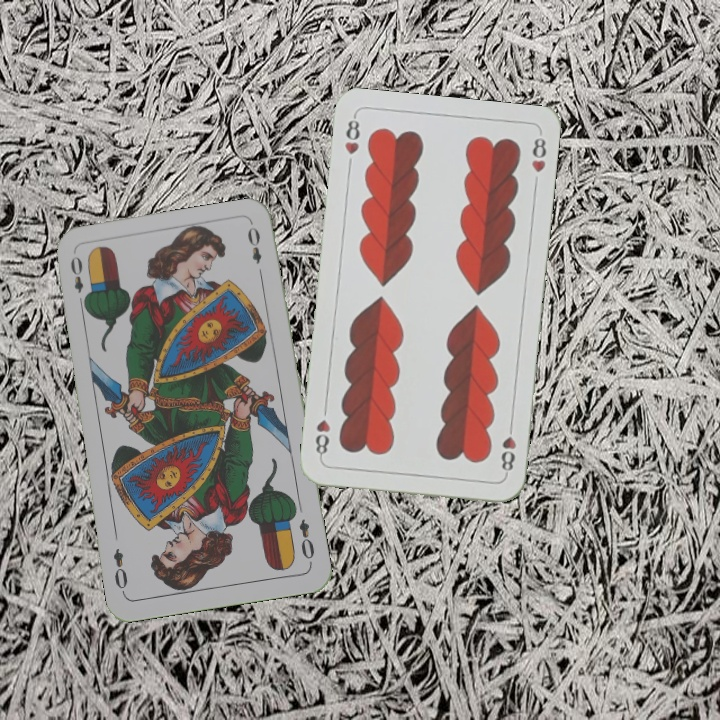EO: (66, 252, 91, 310), (295, 515, 317, 567)
H8: (497, 419, 519, 478), (340, 112, 362, 157)
